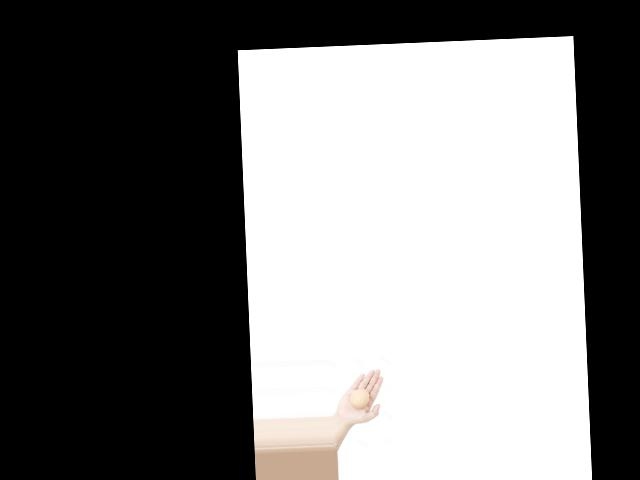egg: (349, 389, 369, 409)
